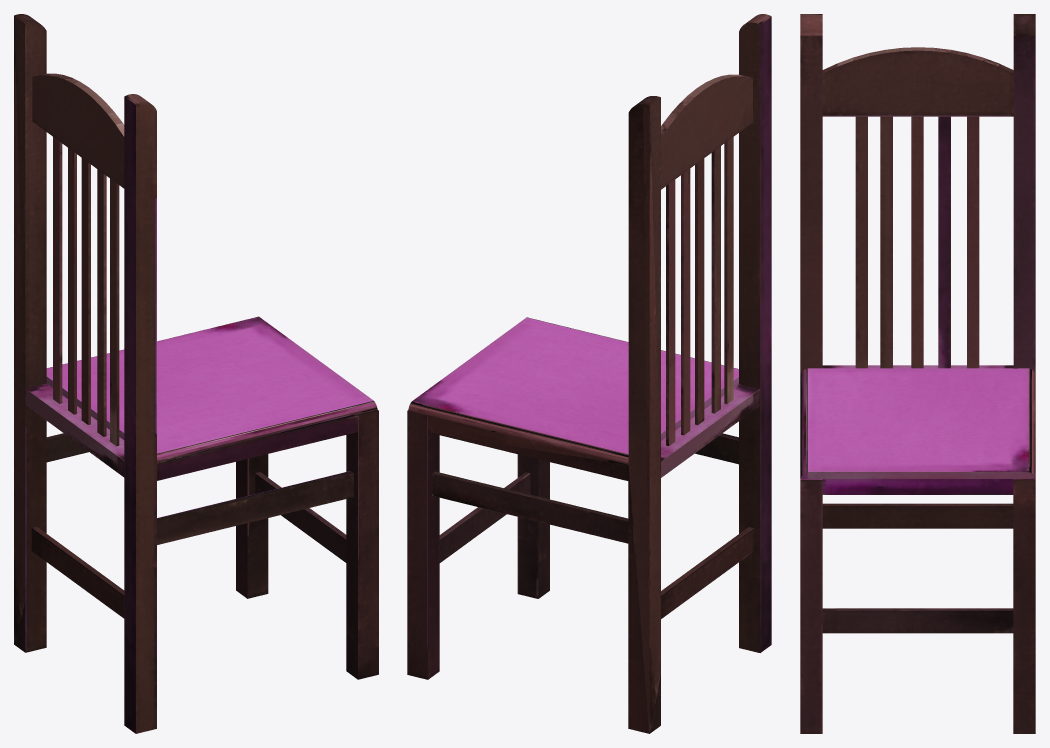
The picture shows the model from 3 angles, left to right: view 1: azimuth 30°, elevation 25°; view 2: azimuth 150°, elevation 25°; view 3: azimuth 270°, elevation 25°; orthographic projection. The views are drawn at different scales.
Parts seen in each view (by area): view 1: Node; view 2: Node; view 3: Node.
Part boxes in pixels (x1,y1,x2,y2): Node: [14, 14, 378, 733]; Node: [407, 14, 771, 733]; Node: [800, 14, 1035, 733].
Size of the model in its own units: 0.2826 by 0.7 by 0.2459.
1 material, 1 textured.
